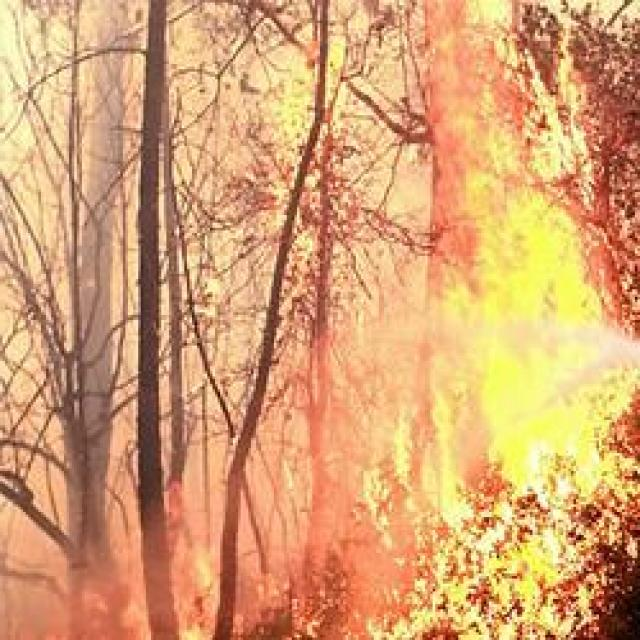fire: (430, 256, 608, 487)
